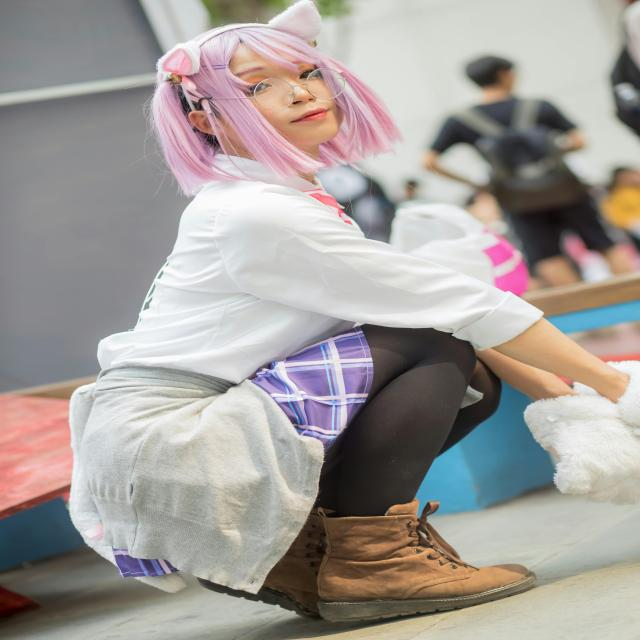sit: (56, 3, 511, 640)
